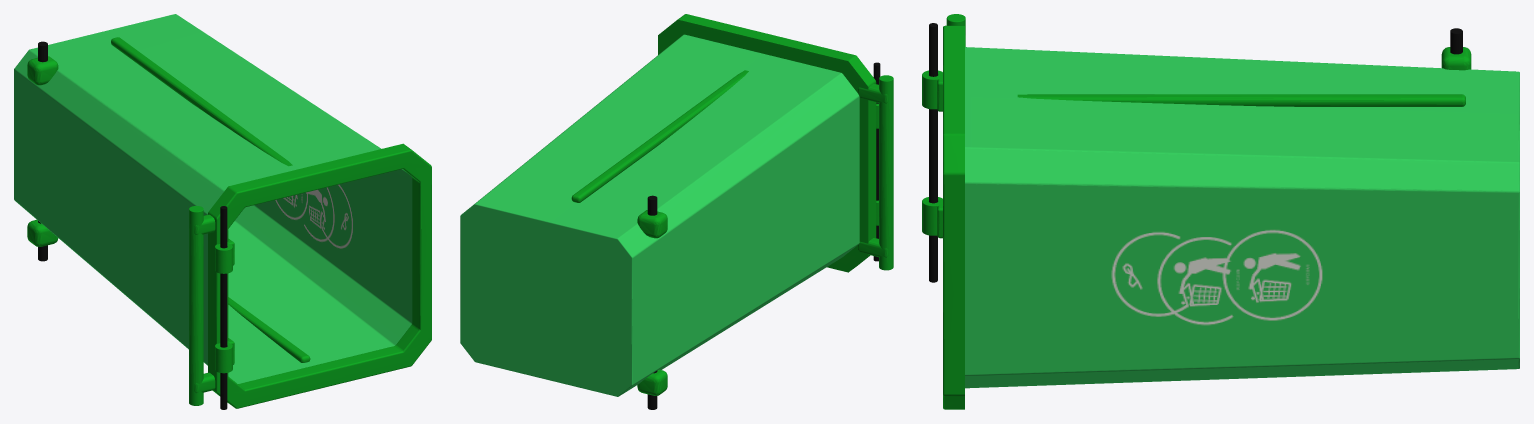
3 renders of one model, left to right at view 1: azimuth 30°, elevation 25°; view 2: azimuth 150°, elevation 25°; view 3: azimuth 270°, elevation 25°, orthographic. The views are drawn at different scales.
Parts seen in each view (by area): view 1: __articraft_commit_0000_0000, __articraft_commit_0000_0001, __articraft_commit_0000_0002, __articraft_commit_0000_0005, __articraft_commit_0000_0012, __articraft_commit_0000_0004, __articraft_commit_0000_0013, __articraft_commit_0000_0014, __articraft_commit_0000_0008, __articraft_commit_0000_0009; view 2: __articraft_commit_0000_0000, __articraft_commit_0000_0001, __articraft_commit_0000_0002, __articraft_commit_0000_0005, __articraft_commit_0000_0013, __articraft_commit_0000_0014, __articraft_commit_0000_0012, __articraft_commit_0000_0007; view 3: __articraft_commit_0000_0000, __articraft_commit_0000_0001, __articraft_commit_0000_0005, __articraft_commit_0000_0012, __articraft_commit_0000_0013, __articraft_commit_0000_0009, __articraft_commit_0000_0008.
Boxes of the visible parts, <box> form: __articraft_commit_0000_0000: <box>14,14,412,383</box>; __articraft_commit_0000_0001: <box>208,143,431,408</box>; __articraft_commit_0000_0002: <box>189,206,203,405</box>; __articraft_commit_0000_0005: <box>111,37,292,166</box>; __articraft_commit_0000_0012: <box>220,206,227,409</box>; __articraft_commit_0000_0004: <box>228,297,310,362</box>; __articraft_commit_0000_0013: <box>27,56,58,85</box>; __articraft_commit_0000_0014: <box>27,219,58,246</box>; __articraft_commit_0000_0008: <box>215,342,232,373</box>; __articraft_commit_0000_0009: <box>215,243,232,273</box>; __articraft_commit_0000_0000: <box>460,34,859,396</box>; __articraft_commit_0000_0001: <box>658,14,876,272</box>; __articraft_commit_0000_0002: <box>879,75,893,270</box>; __articraft_commit_0000_0005: <box>571,70,748,202</box>; __articraft_commit_0000_0013: <box>637,210,667,238</box>; __articraft_commit_0000_0014: <box>637,369,667,395</box>; __articraft_commit_0000_0012: <box>873,62,880,261</box>; __articraft_commit_0000_0007: <box>858,83,888,103</box>; __articraft_commit_0000_0000: <box>965,47,1519,388</box>; __articraft_commit_0000_0001: <box>943,25,964,409</box>; __articraft_commit_0000_0005: <box>1017,94,1465,106</box>; __articraft_commit_0000_0012: <box>929,23,937,282</box>; __articraft_commit_0000_0013: <box>1441,47,1471,70</box>; __articraft_commit_0000_0009: <box>922,70,942,109</box>; __articraft_commit_0000_0008: <box>922,197,942,235</box>.
Bounding box in the file's own units: 0.55 × 0.48 × 0.943.
3 materials, 1 textured.
